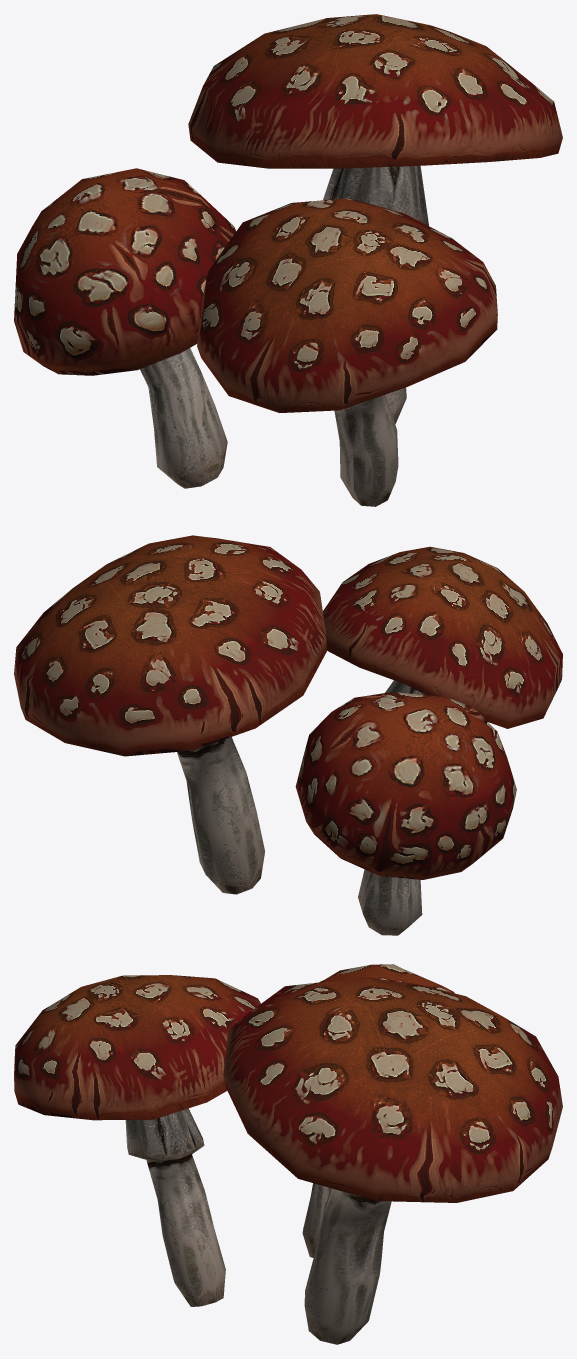
Rendered from mushroom_1_group_1.fbx.
3 renders of one model, top to bottom at view 1: azimuth 30°, elevation 25°; view 2: azimuth 150°, elevation 25°; view 3: azimuth 270°, elevation 25°, orthographic. The views are drawn at different scales.
Visible parts, largest first — view 1: Mushroom_1_Group_1; view 2: Mushroom_1_Group_1; view 3: Mushroom_1_Group_1.
Part boxes in pixels (<box>): Mushroom_1_Group_1: <box>14,14,562,506</box>; Mushroom_1_Group_1: <box>14,535,562,935</box>; Mushroom_1_Group_1: <box>14,964,562,1344</box>.
Size of the model in its own units: 1.12 by 0.7939 by 1.11.
